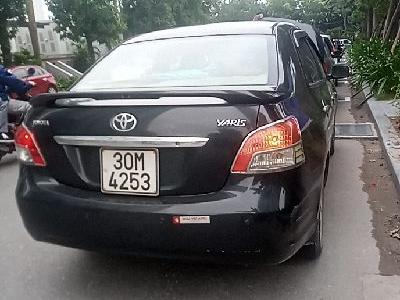car: (96, 146, 162, 196)
